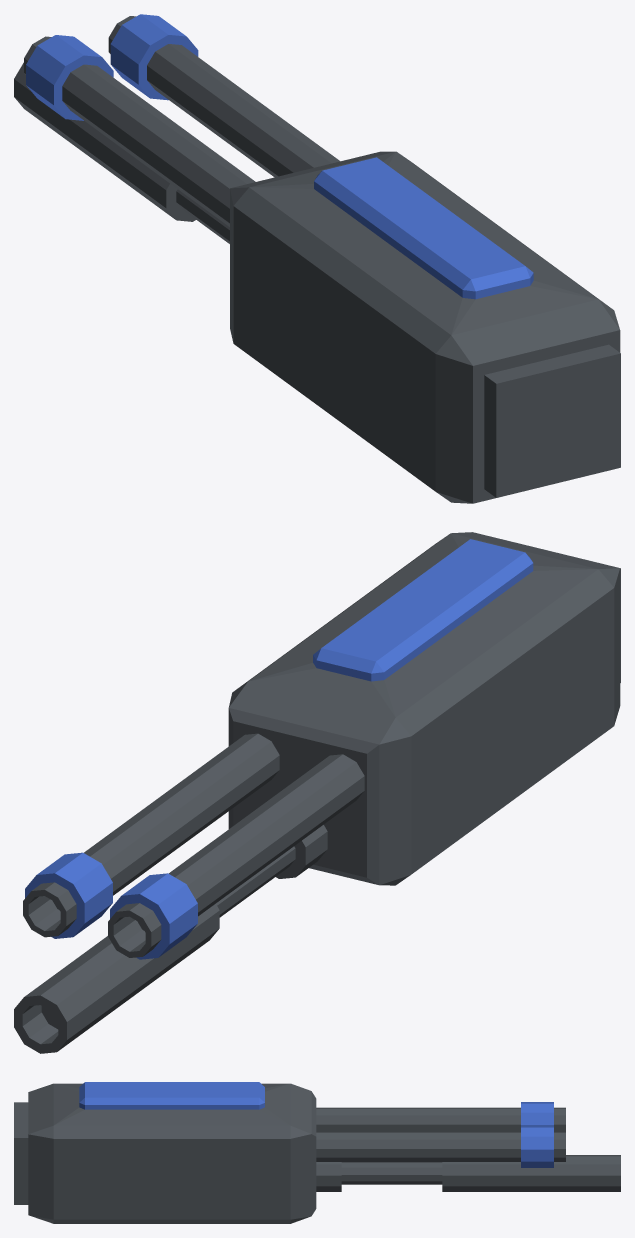
Rendered from Dropship_03_Minigun_Blue.fbx.
3 renders of one model, top to bottom at view 1: azimuth 30°, elevation 25°; view 2: azimuth 150°, elevation 25°; view 3: azimuth 270°, elevation 25°, orthographic. The views are drawn at different scales.
Visible parts, largest first — view 1: Dropship_03_Minigun_Blue; view 2: Dropship_03_Minigun_Blue; view 3: Dropship_03_Minigun_Blue.
Boxes of the visible parts, x1,y1,x2,y2 form: Dropship_03_Minigun_Blue: (14,14,620,503); Dropship_03_Minigun_Blue: (14,532,620,1053); Dropship_03_Minigun_Blue: (14,1082,620,1223).
Bounding box in the file's own units: 46.05 × 47.4 × 231.
Materials: 1 (1 with a texture image).
